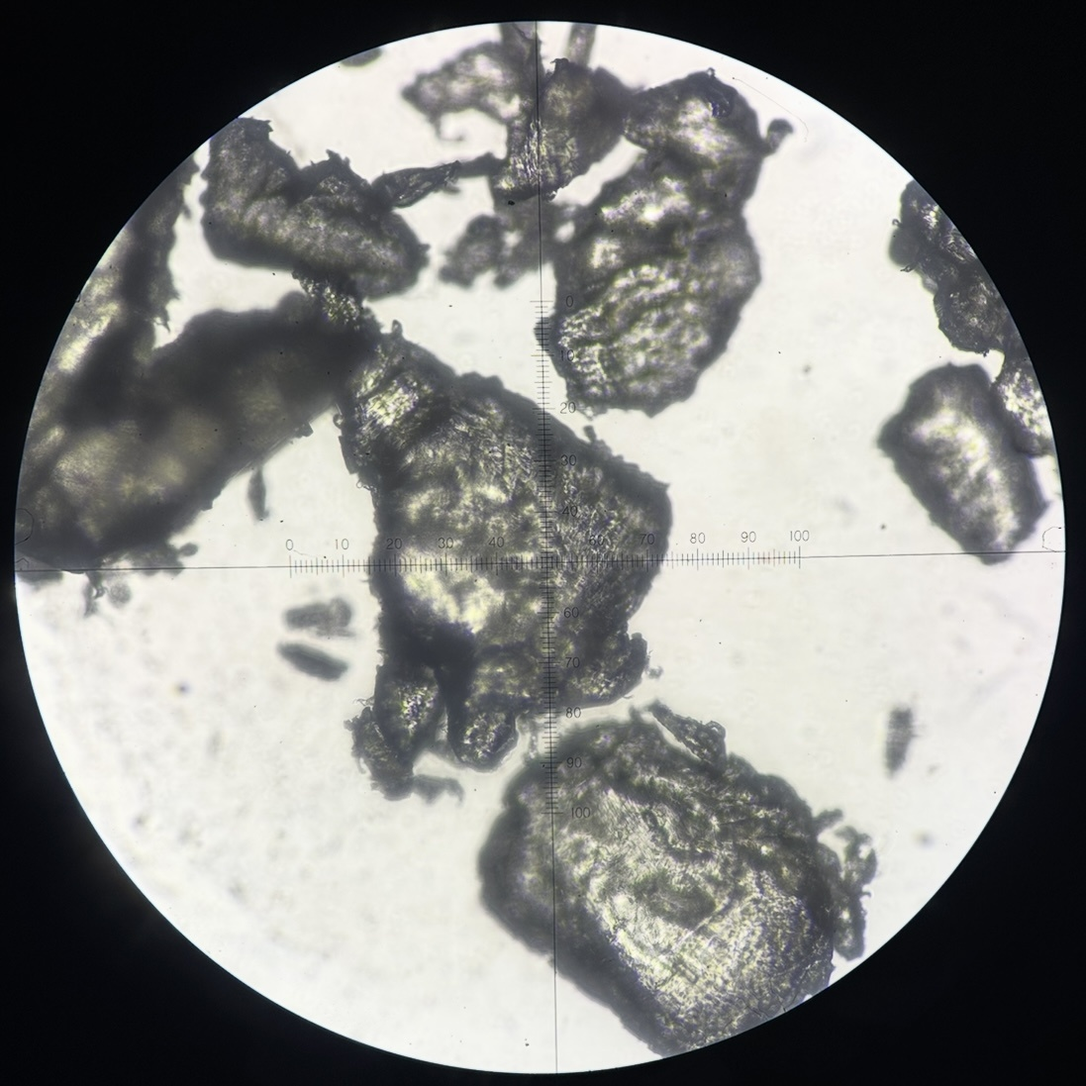microplastic: (10, 133, 380, 585), (331, 316, 675, 772), (474, 702, 846, 1063), (534, 66, 796, 421), (882, 174, 1061, 461), (198, 110, 433, 303), (868, 359, 1048, 566), (489, 55, 642, 208), (398, 40, 524, 145), (808, 824, 882, 961), (368, 148, 503, 214), (494, 204, 580, 292), (343, 705, 416, 803), (642, 697, 728, 772), (435, 212, 509, 295), (291, 268, 384, 328), (498, 21, 549, 107), (279, 593, 360, 643), (76, 565, 134, 626), (273, 640, 351, 684), (126, 538, 201, 574), (882, 705, 916, 784), (244, 464, 278, 525), (411, 772, 466, 807), (564, 21, 599, 67), (341, 45, 384, 71)
